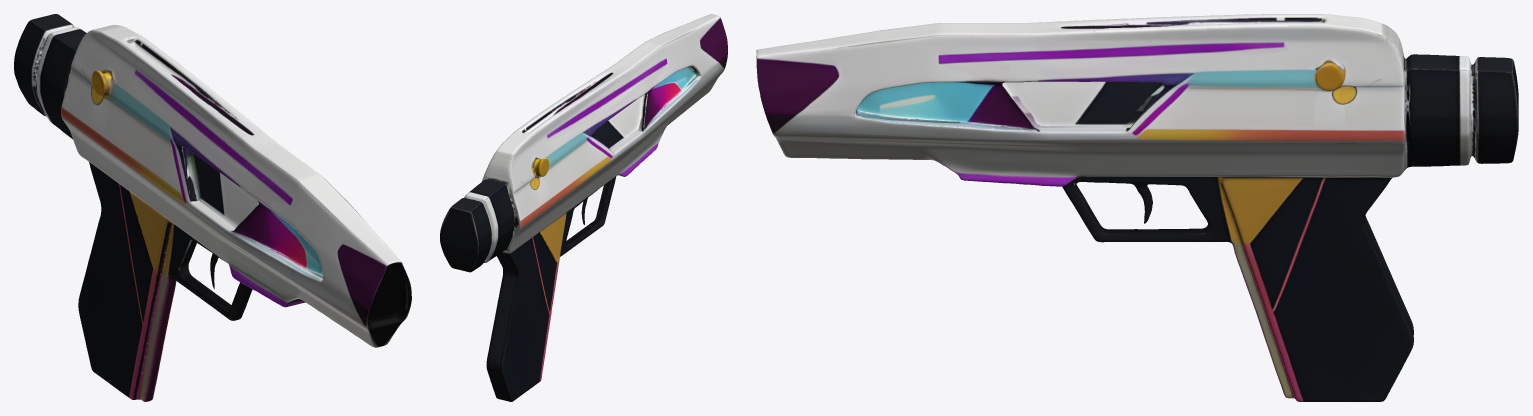
The model's file is Laser Pistol 02.fbx.
3 views of the same model, side by side, from view 1: azimuth 30°, elevation 25°; view 2: azimuth 150°, elevation 25°; view 3: azimuth 270°, elevation 25° (orthographic). The views are drawn at different scales.
Parts seen in each view (by area): view 1: Laser Pistol 02; view 2: Laser Pistol 02; view 3: Laser Pistol 02.
Boxes of the visible parts, x1=… form: Laser Pistol 02: x1=14, y1=14, x2=411, y2=401; Laser Pistol 02: x1=440, y1=14, x2=727, y2=401; Laser Pistol 02: x1=756, y1=14, x2=1518, y2=401.
Bounding box in the file's own units: 20.55 × 104 × 190.
1 material, 1 textured.
